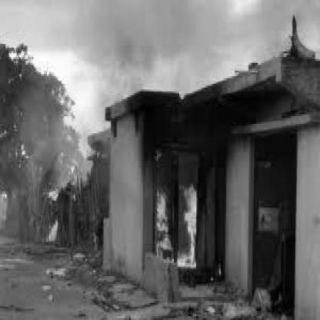Fire: (175, 170, 198, 264), (154, 177, 171, 261), (47, 214, 59, 243)
Smoke: (117, 36, 157, 88)
